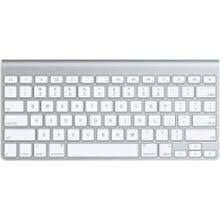keyboard: (3, 69, 220, 160)
